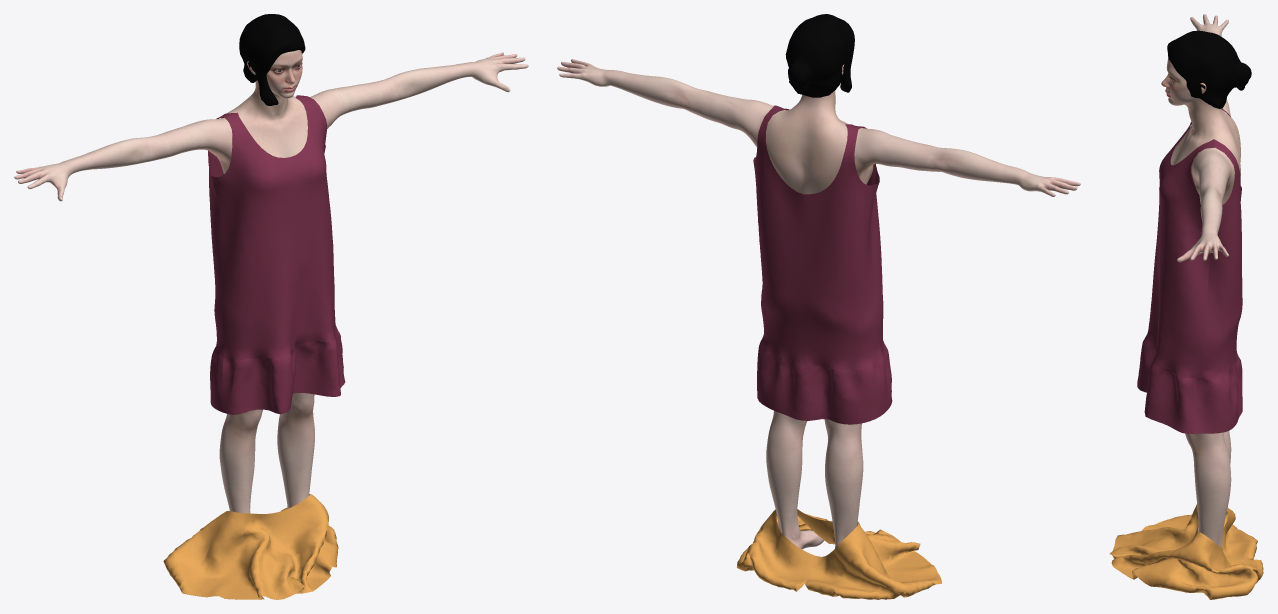
Rendered from random.obj.
3 views of the same model, side by side, from view 1: azimuth 30°, elevation 25°; view 2: azimuth 150°, elevation 25°; view 3: azimuth 270°, elevation 25° (orthographic). The views are drawn at different scales.
Size of the model in its own units: 1746 by 1775 by 465.
